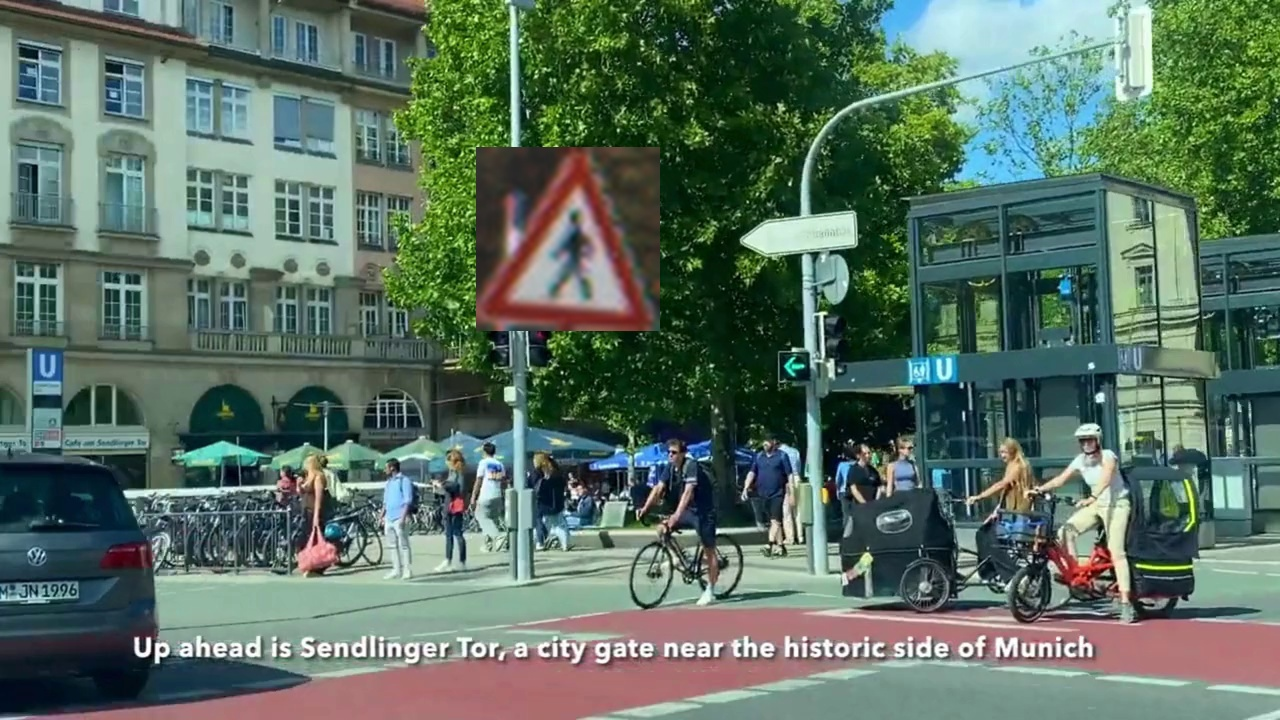Pedestrians: (476, 147, 660, 331)
